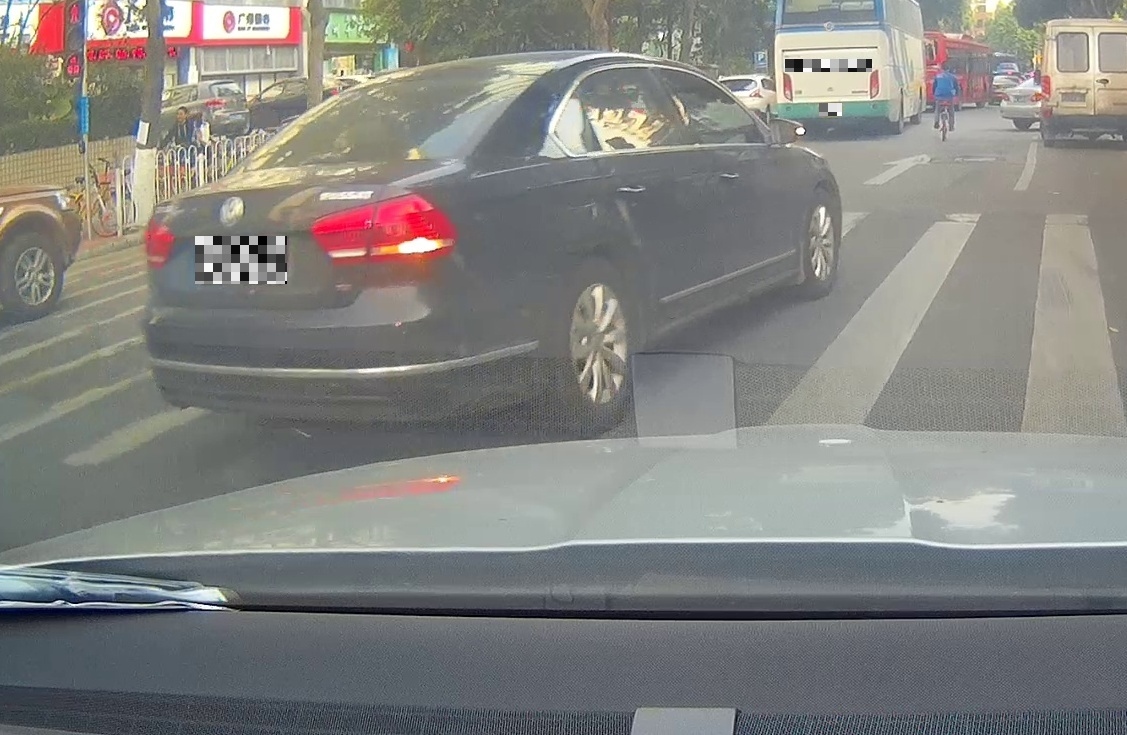L_light: (143, 214, 175, 270), (783, 71, 793, 102)
R_light: (310, 191, 459, 267), (869, 69, 880, 99)
T_light: (380, 78, 429, 87), (817, 3, 840, 11)
day-no: (773, 0, 890, 134)
day-right: (140, 56, 540, 436)
plate_1: (195, 236, 287, 284)
plate_2: (785, 59, 872, 72)
plate_3: (819, 103, 842, 116)
